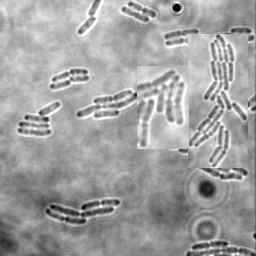Dividing: (52, 67, 89, 81), (128, 1, 157, 18), (164, 28, 200, 39), (192, 239, 229, 249), (166, 34, 188, 47)
Microcolony: (188, 34, 248, 168), (137, 66, 189, 149), (45, 199, 121, 224), (76, 88, 137, 119), (18, 101, 61, 136)
Rod: (121, 5, 150, 23), (78, 16, 99, 34), (50, 79, 72, 89), (69, 73, 90, 82)
